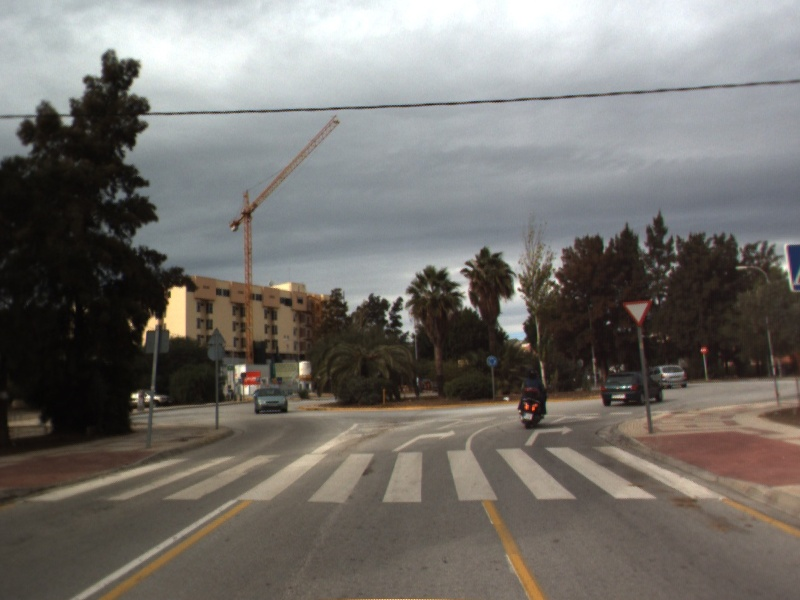RIGHT: (390, 427, 457, 453), (523, 423, 575, 448)
